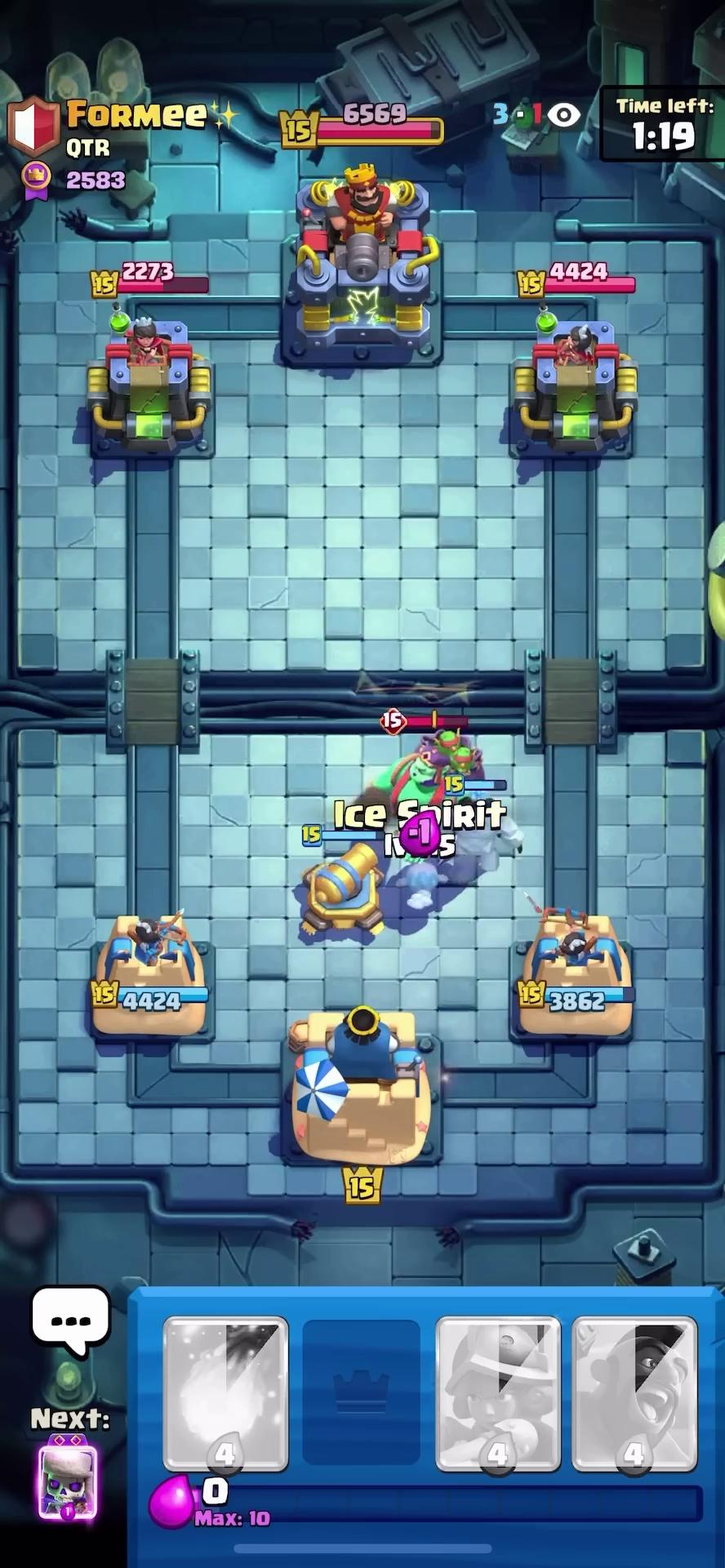cannon: (296, 833, 396, 935)
ice_golem: (449, 792, 527, 880)
